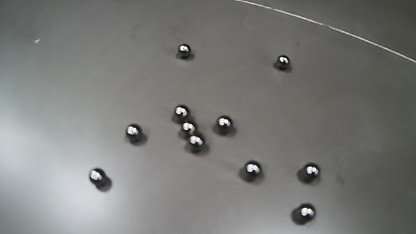ironball: (237, 154, 268, 187), (181, 131, 212, 160), (296, 156, 324, 187), (293, 201, 321, 226), (211, 112, 234, 137), (87, 168, 110, 190), (125, 118, 144, 144), (177, 118, 198, 140), (171, 102, 191, 121), (176, 42, 192, 61), (277, 53, 292, 71)
